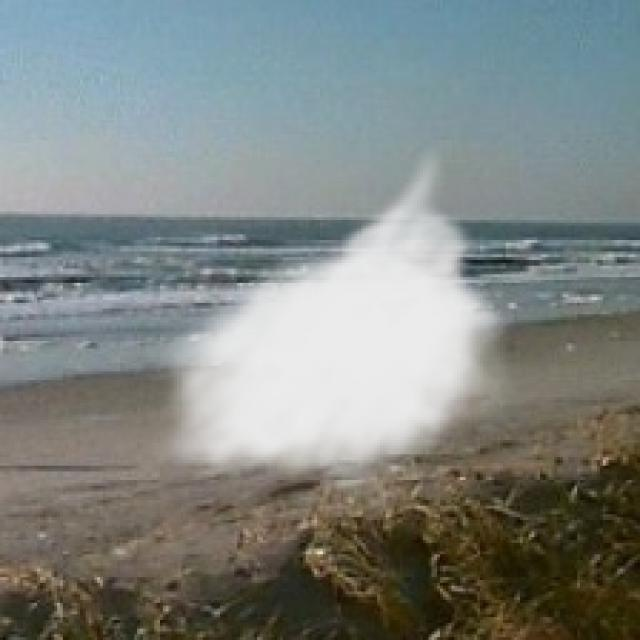Smoke: (142, 142, 518, 498)
